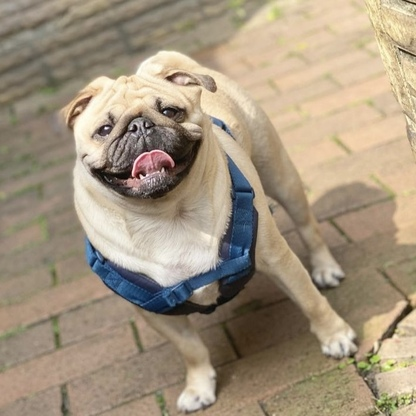Pug: (51, 43, 366, 416)
